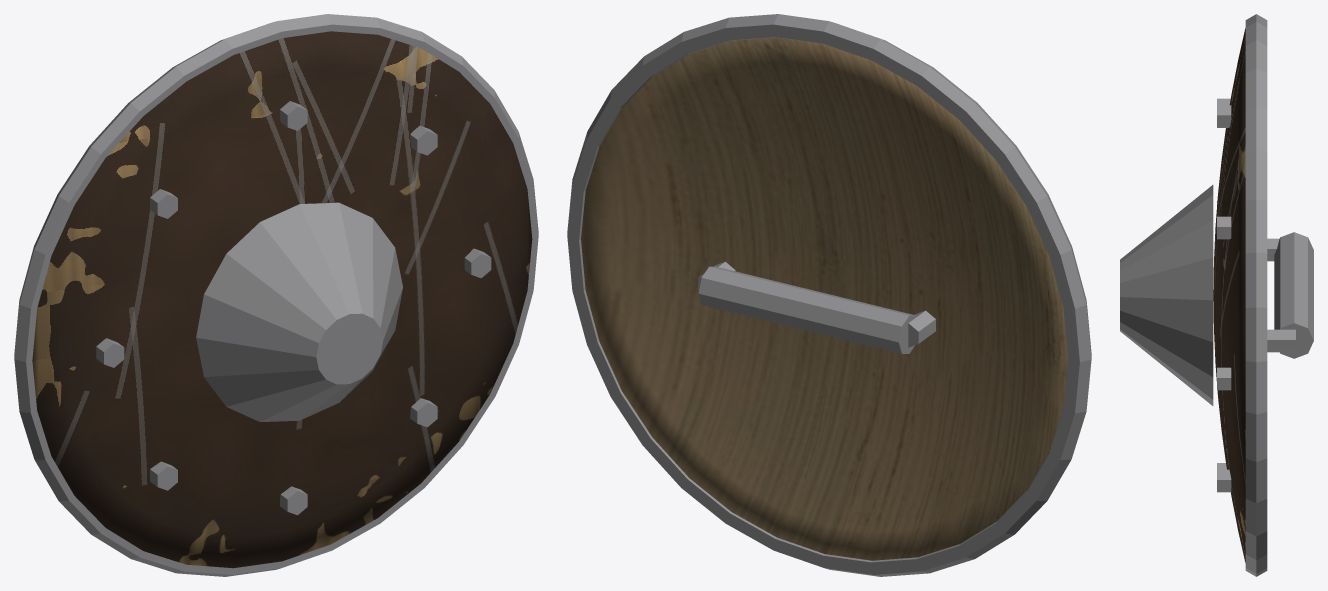
File: buckler_p1_w1.glb
The picture shows the model from 3 angles, left to right: view 1: azimuth 30°, elevation 25°; view 2: azimuth 150°, elevation 25°; view 3: azimuth 270°, elevation 25°; orthographic projection. The views are drawn at different scales.
Parts seen in each view (by area): view 1: buckler_p1_w1; view 2: buckler_p1_w1; view 3: buckler_p1_w1.
Boxes of the visible parts, left/top/right/bottom form: buckler_p1_w1: left=14, top=14, right=538, bottom=576; buckler_p1_w1: left=567, top=14, right=1091, bottom=576; buckler_p1_w1: left=1120, top=14, right=1313, bottom=576.
Bounding box in the file's own units: 0.314 × 0.314 × 0.108.
Materials: 3 (2 with a texture image).
